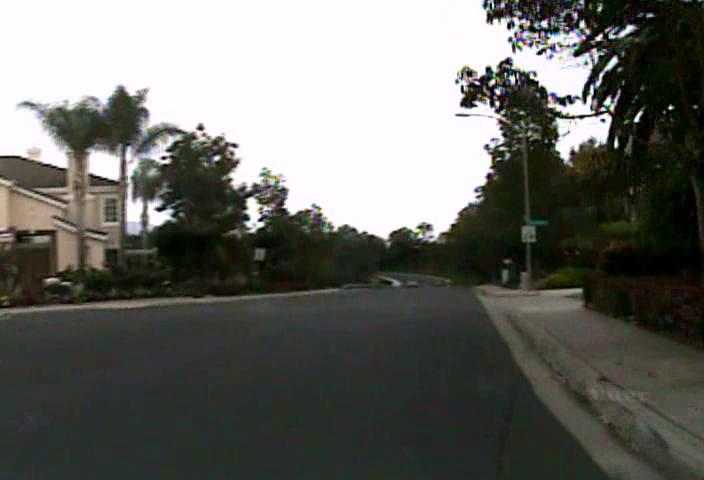speedLimitUrdbl: (520, 225, 536, 243)
